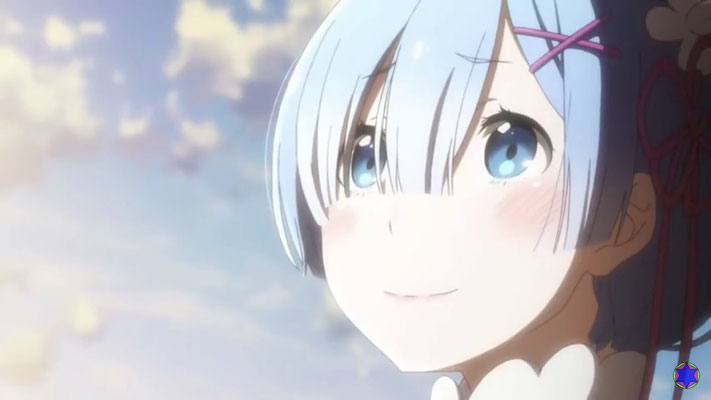rem: (261, 1, 710, 400)
